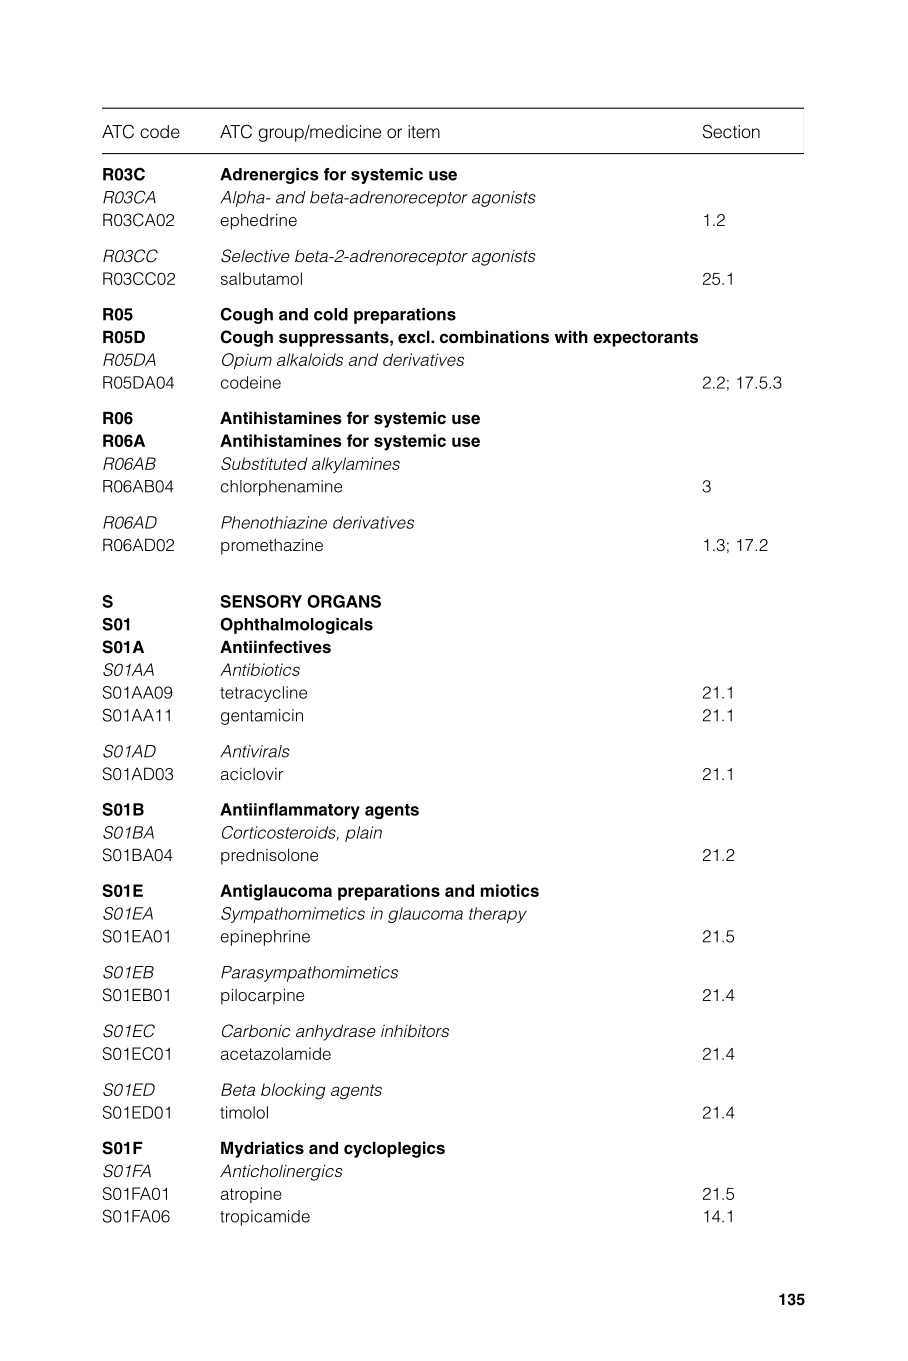partial_lined: (100, 105, 805, 1228)
